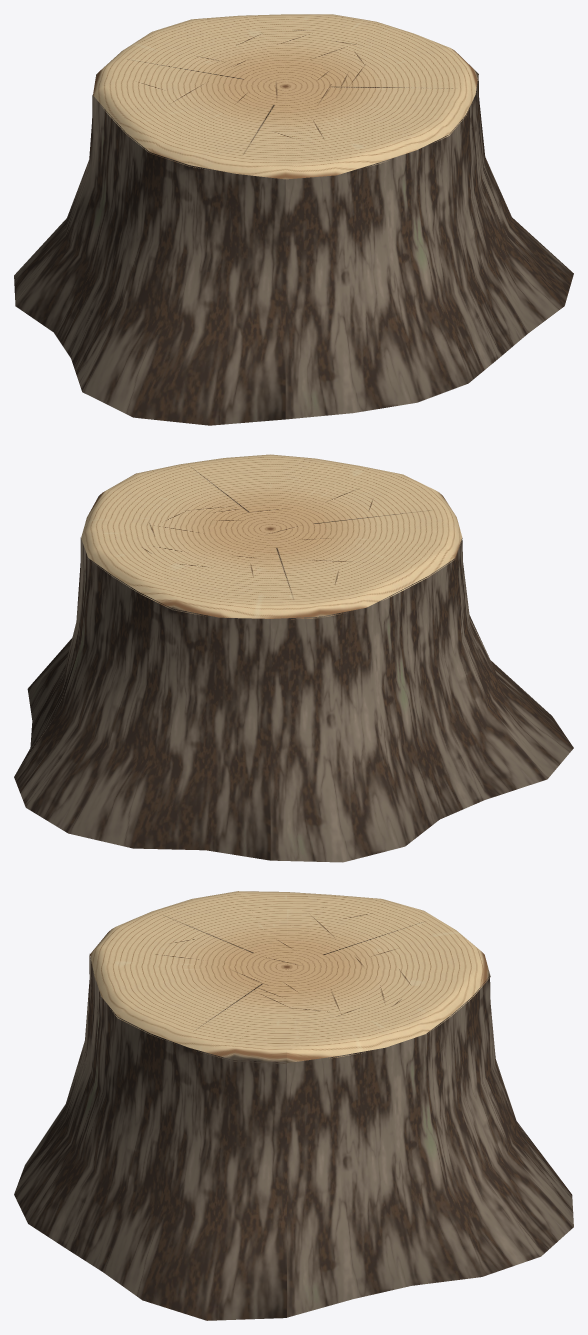
File: stump_lod.gltf
3 views of the same model, one above another, from view 1: azimuth 30°, elevation 25°; view 2: azimuth 150°, elevation 25°; view 3: azimuth 270°, elevation 25° (orthographic). The views are drawn at different scales.
Visible parts, largest first — view 1: stump_mesh; view 2: stump_mesh; view 3: stump_mesh.
Boxes of the visible parts, <box> form: stump_mesh: <box>14,14,573,425</box>; stump_mesh: <box>14,454,573,862</box>; stump_mesh: <box>14,891,573,1320</box>.
Size of the model in its own units: 0.8639 by 0.37 by 0.825.
1 material, 1 textured.
